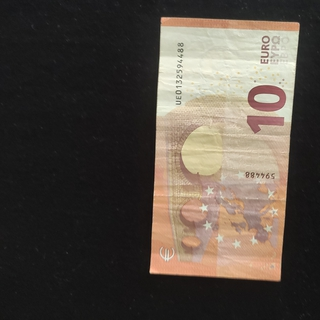10EUROBack: (148, 15, 300, 282)
